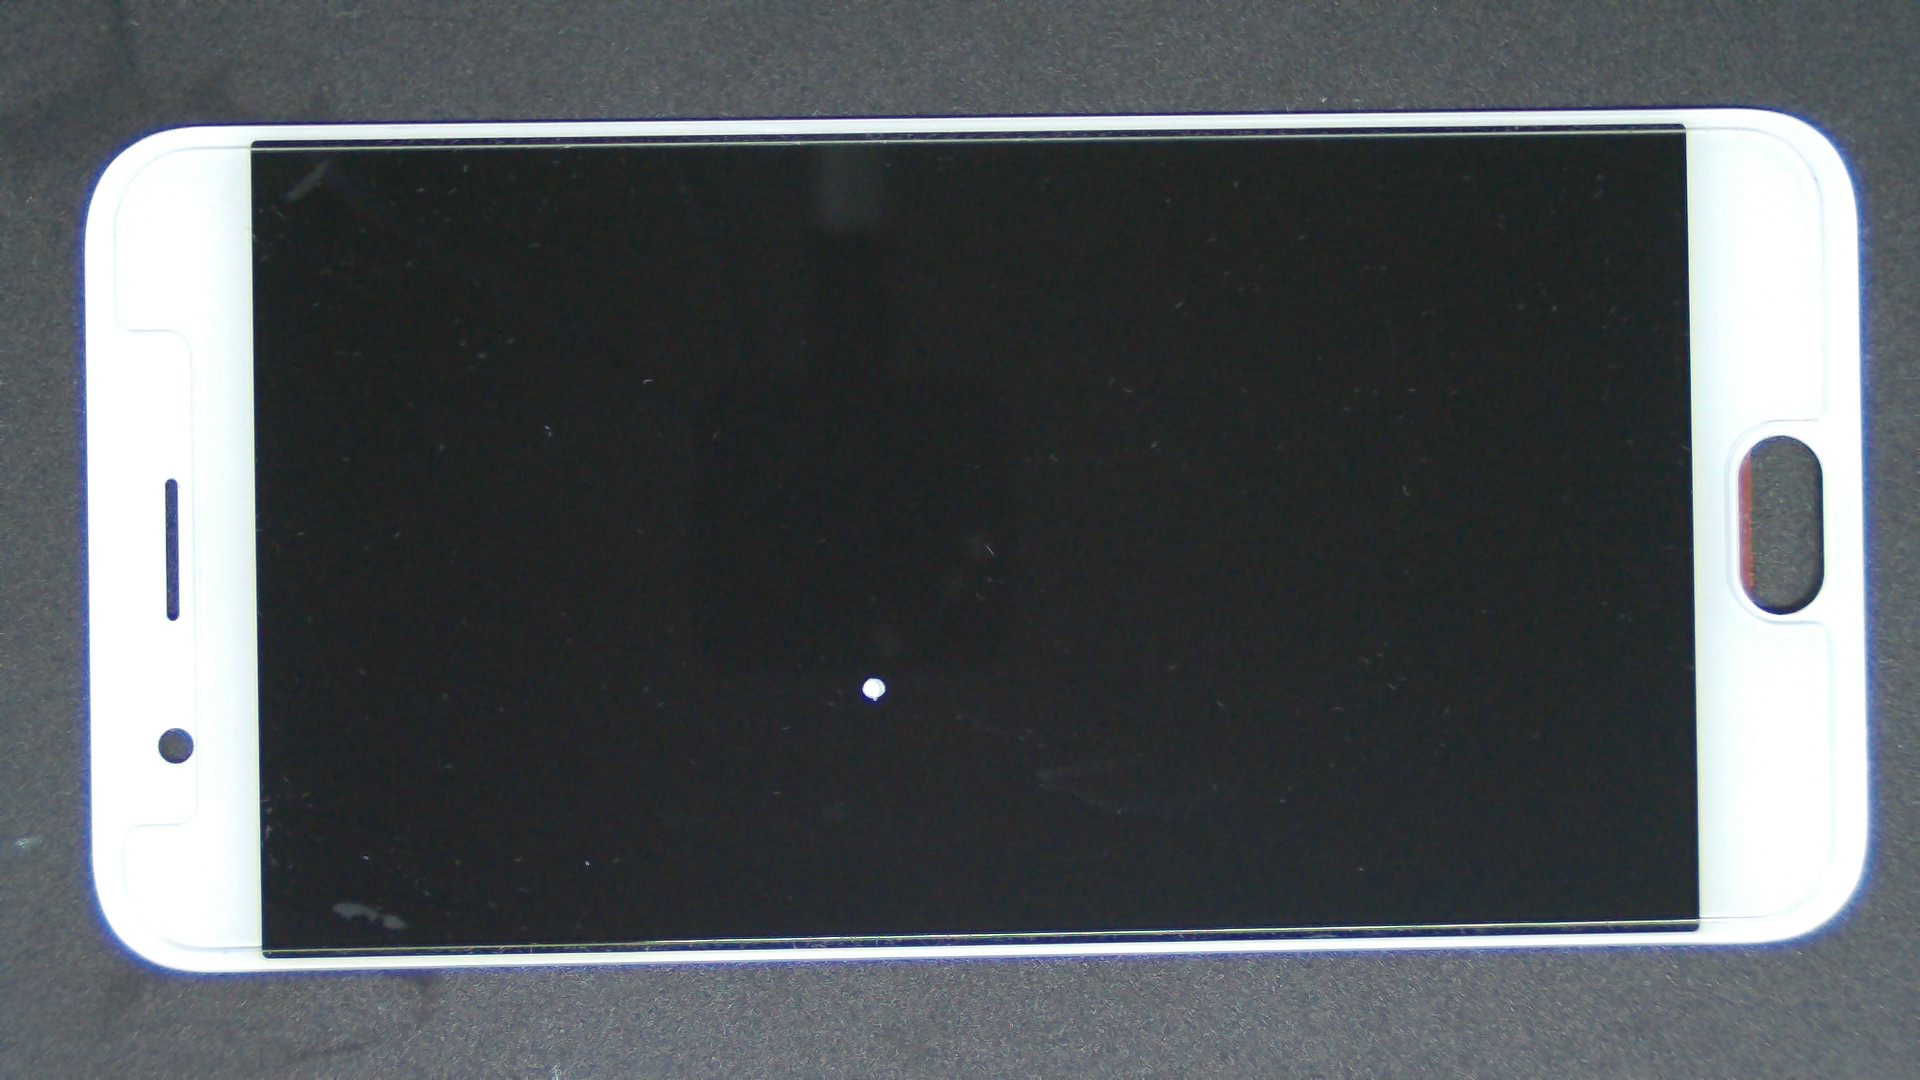oil: (436, 338, 1308, 1014)
